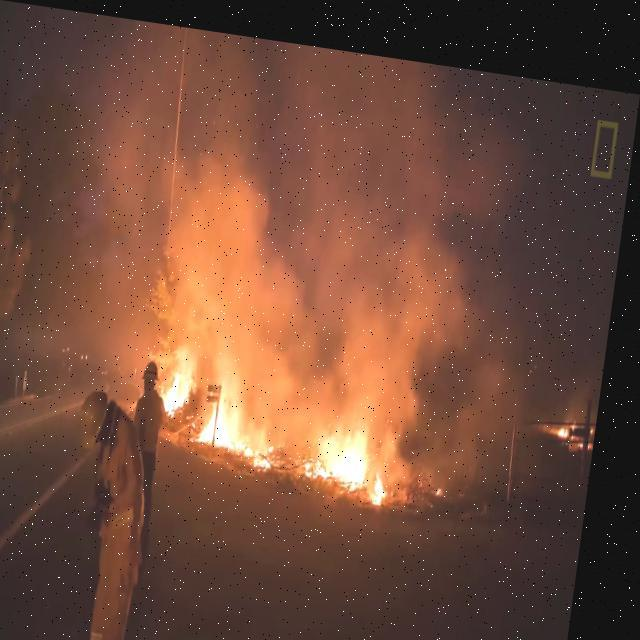Fire: (313, 407, 406, 492), (210, 374, 292, 466), (163, 356, 204, 408), (564, 403, 584, 423), (446, 468, 454, 482)
